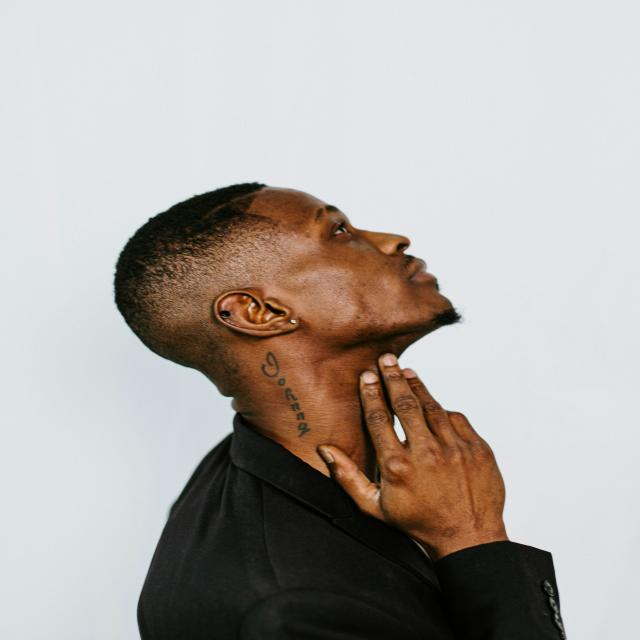sem_oculos: (229, 209, 368, 333)
